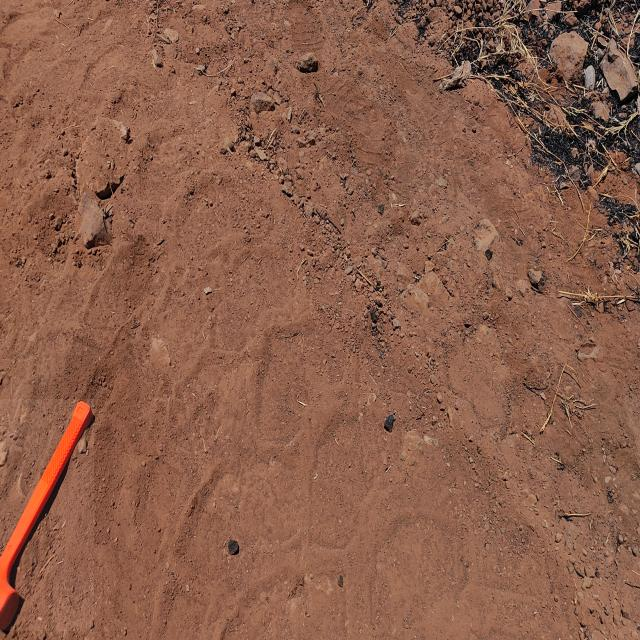Orange_hammer: (0, 399, 94, 631)
